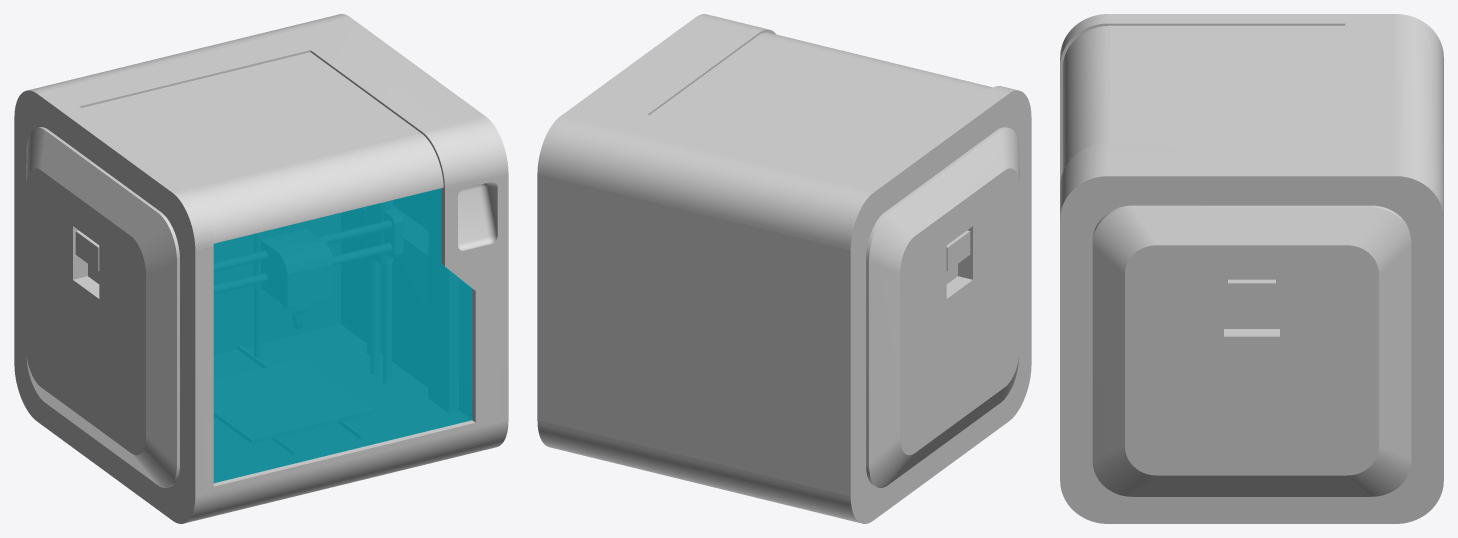
The model's file is Impressora3D.fbx.
3 renders of one model, left to right at view 1: azimuth 30°, elevation 25°; view 2: azimuth 150°, elevation 25°; view 3: azimuth 270°, elevation 25°, orthographic. The views are drawn at different scales.
Parts seen in each view (by area): view 1: node_id10, node_id8; view 2: node_id10; view 3: node_id10.
Boxes of the visible parts, left/top/right/bottom form: node_id10: left=14, top=14, right=508, bottom=523; node_id8: left=213, top=188, right=472, bottom=483; node_id10: left=537, top=14, right=1031, bottom=523; node_id10: left=1060, top=14, right=1443, bottom=523.
Bounding box in the file's own units: 297 × 264 × 264.
